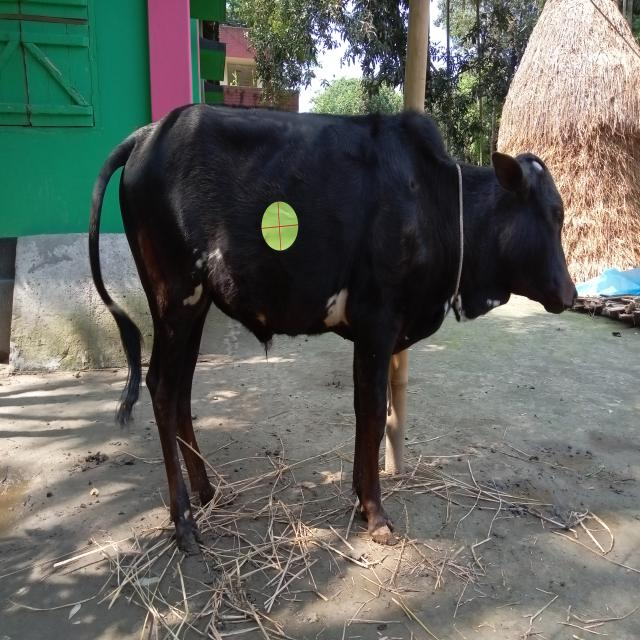badan_sapi: (120, 114, 460, 341)
sapi: (79, 95, 584, 542)
